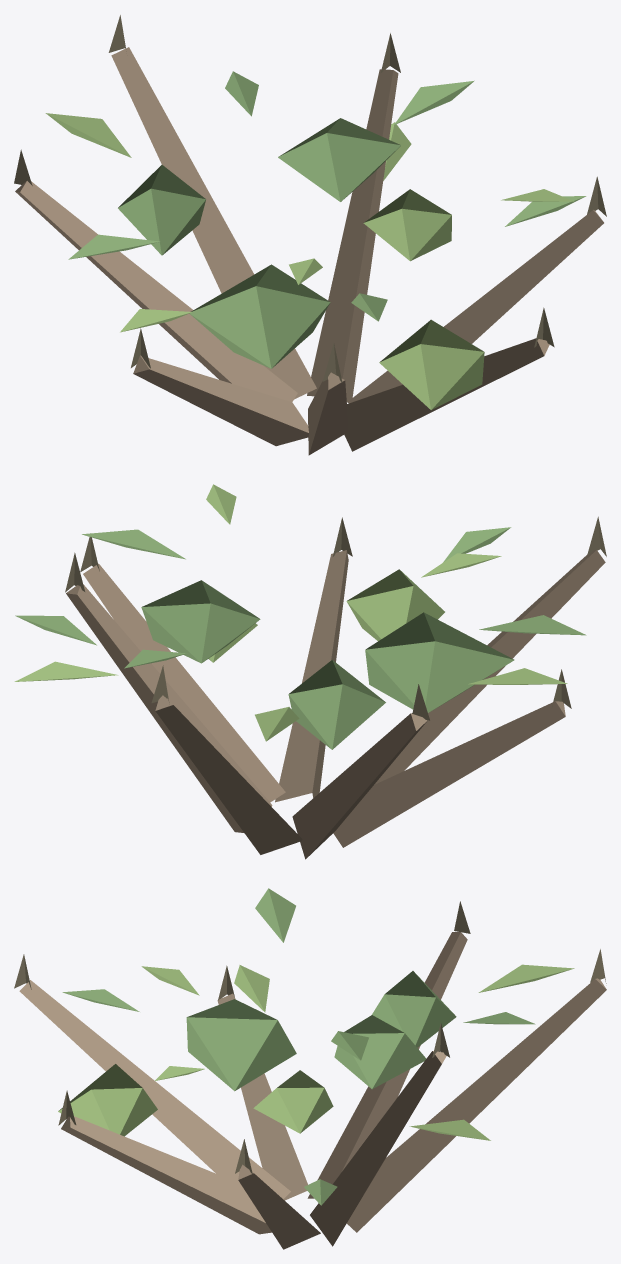
Rendered from guan.xuangouzi@subadult__bloom.glb.
3 renders of one model, top to bottom at view 1: azimuth 30°, elevation 25°; view 2: azimuth 150°, elevation 25°; view 3: azimuth 270°, elevation 25°, orthographic. The views are drawn at different scales.
Parts seen in each view (by area): view 1: guan.xuangouzi@subadult__bloom; view 2: guan.xuangouzi@subadult__bloom; view 3: guan.xuangouzi@subadult__bloom.
Boxes of the visible parts, bbox=[...] form: guan.xuangouzi@subadult__bloom: bbox=[14, 15, 606, 455]; guan.xuangouzi@subadult__bloom: bbox=[14, 484, 606, 859]; guan.xuangouzi@subadult__bloom: bbox=[14, 888, 606, 1249].
Size of the model in its own units: 1.52 by 0.8168 by 1.61.
